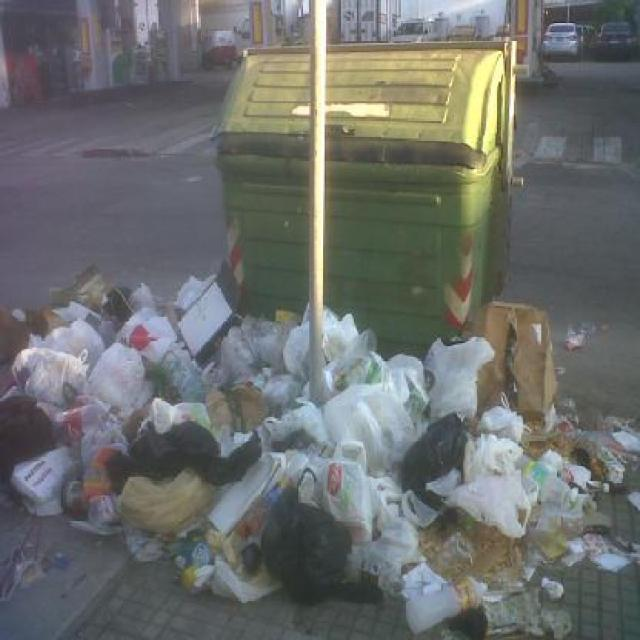garbage: (28, 288, 548, 636)
